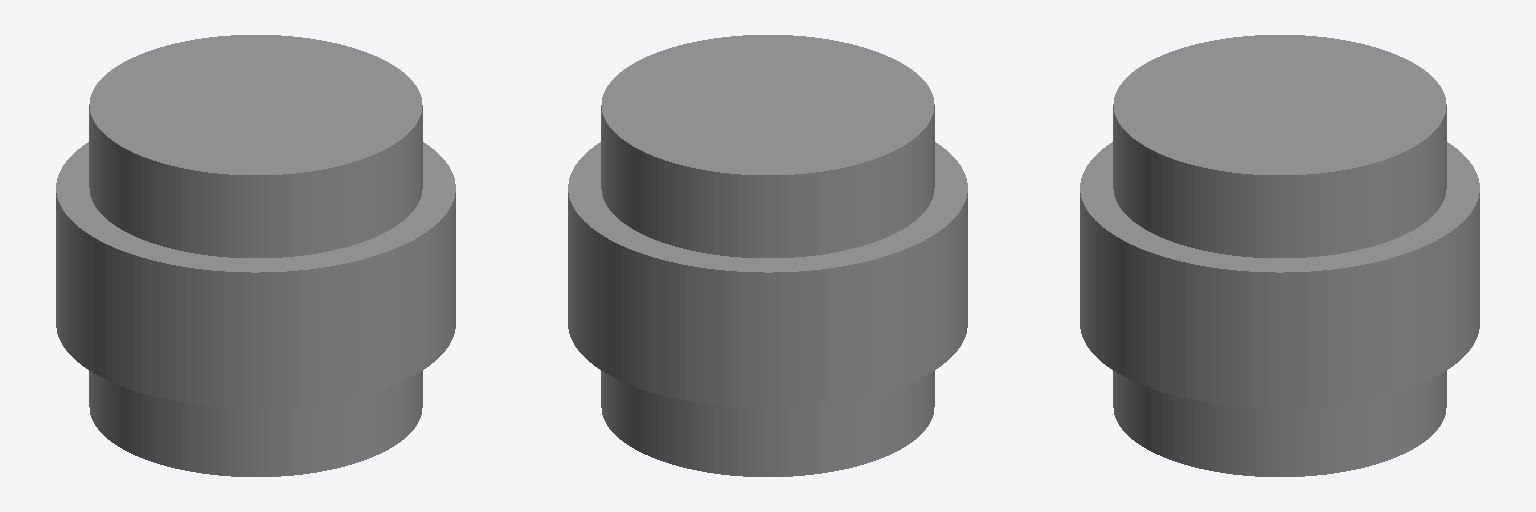
Rendered from CylBumpN2S.obj.
The picture shows the model from 3 angles: view 1: azimuth 30°, elevation 25°; view 2: azimuth 150°, elevation 25°; view 3: azimuth 270°, elevation 25°; orthographic projection.
Visible parts, largest first — view 1: CylinderBumper.003_Cylinder.036, GreenBumper.004_Cylinder.005; view 2: CylinderBumper.003_Cylinder.036, GreenBumper.004_Cylinder.005; view 3: CylinderBumper.003_Cylinder.036, GreenBumper.004_Cylinder.005.
Part boxes in pixels (x1,y1,x2,y2): CylinderBumper.003_Cylinder.036: (89, 35, 422, 476); GreenBumper.004_Cylinder.005: (56, 142, 455, 407); CylinderBumper.003_Cylinder.036: (601, 35, 934, 476); GreenBumper.004_Cylinder.005: (568, 142, 967, 407); CylinderBumper.003_Cylinder.036: (1113, 35, 1446, 476); GreenBumper.004_Cylinder.005: (1080, 142, 1479, 407).
Bounding box in the file's own units: 0.6 × 0.5 × 0.6.